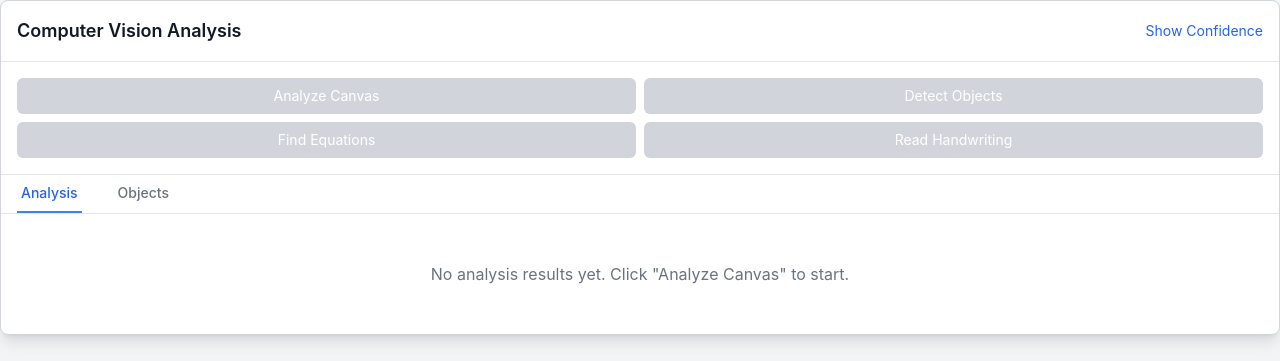
ComputerVisionPanel › should show empty state when no objects detected
# Switch to objects tab
Step 1. Click the button "Objects" → (143, 194), box [114,175,173,213]
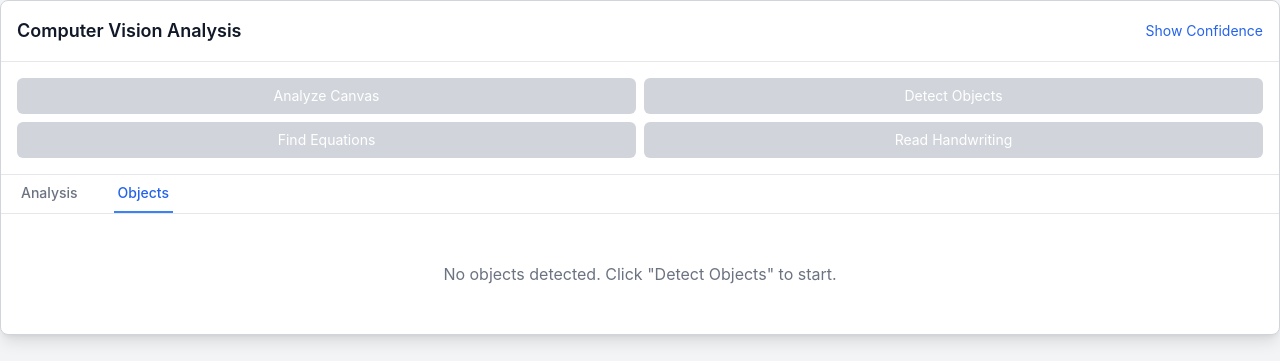
Now the text "No objects detected. Click \"Detect Objects\" to start." is shown, box [443,264,837,284]
